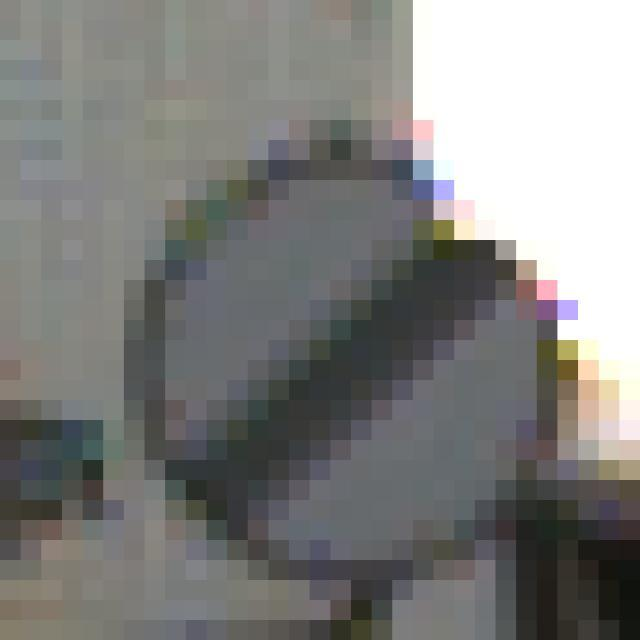restriction ends: (117, 134, 588, 578)
